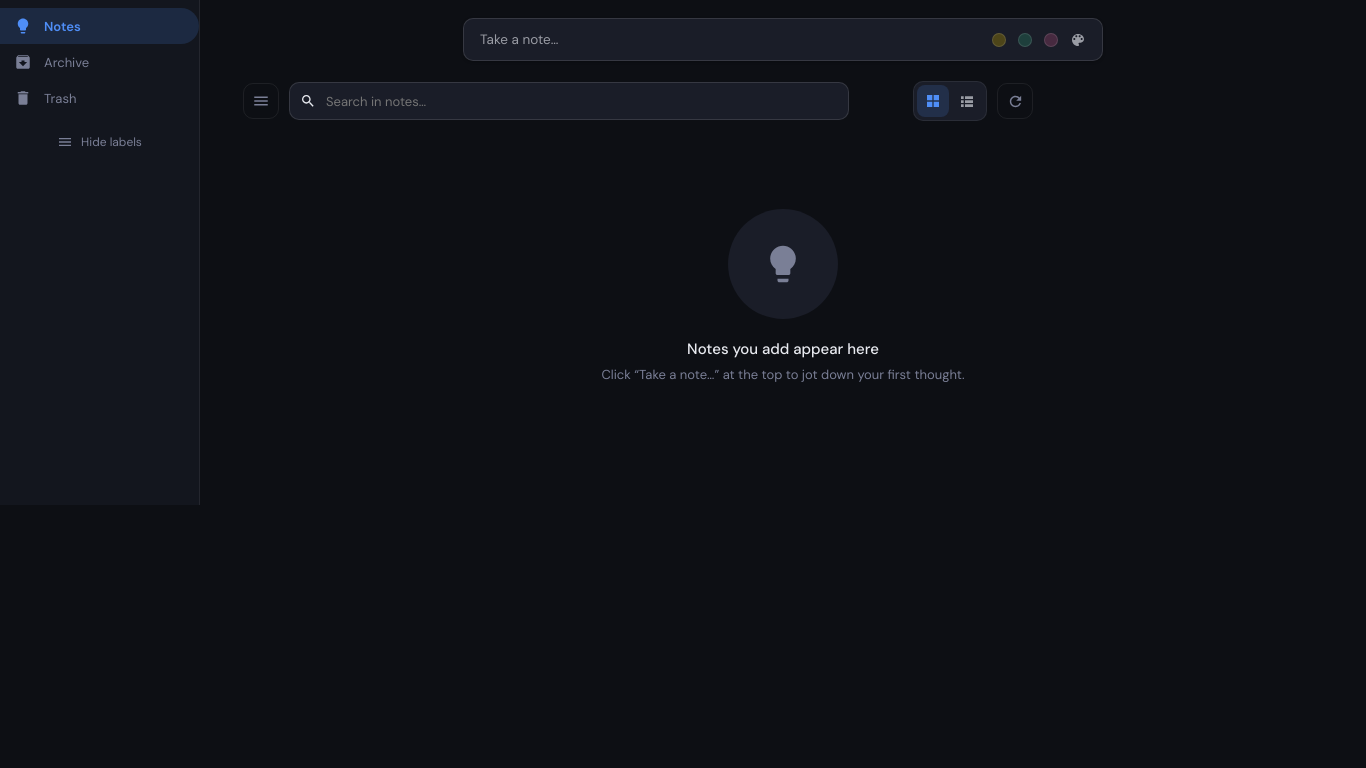
it: creates a note through the editor: close flushes a single POST
This screenshot has width=1366, height=768.
Expected: the message is shown, [602,209,965,383]
Click the button "Take a note…": (519, 40) [463,18,1103,61]
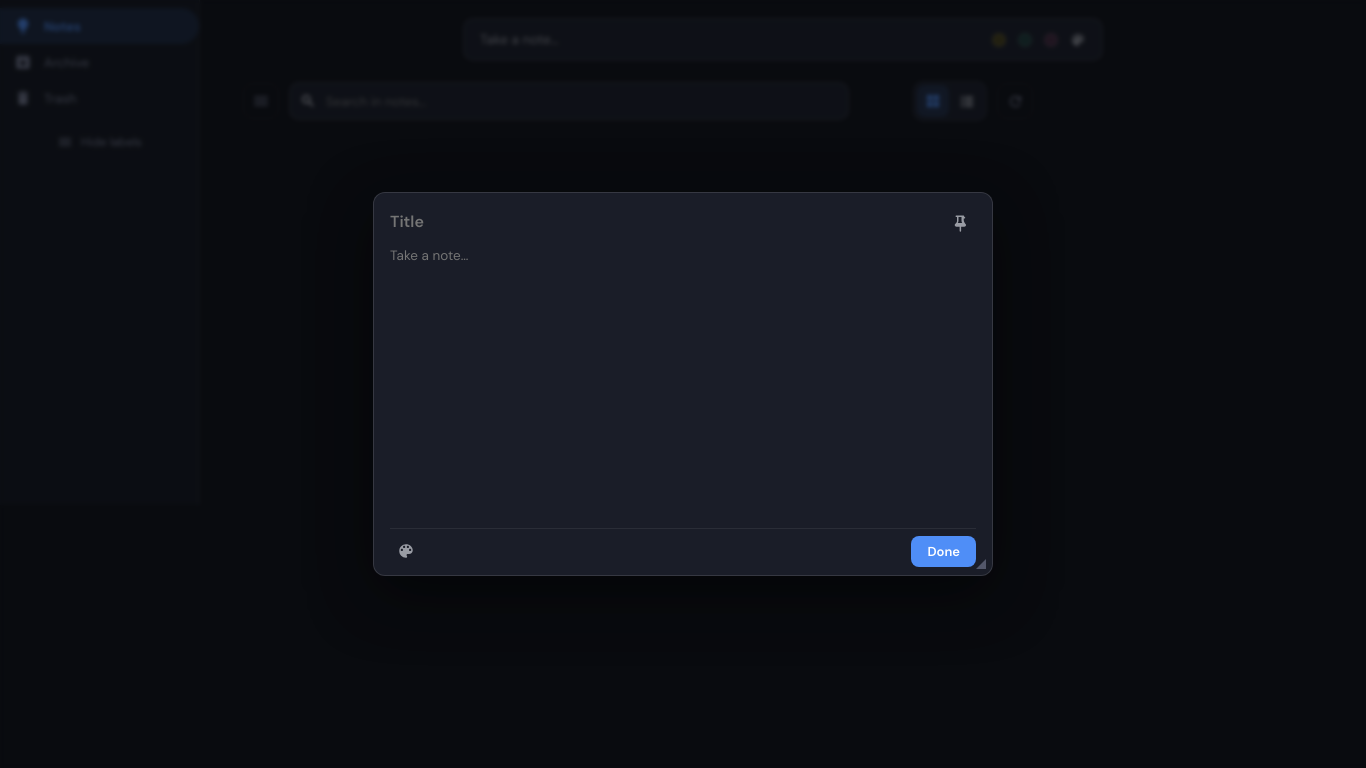
Expected: the dialog named "new note" is shown, [373,192,993,576]
In the field named "Note title": (663, 222) [390,207,936,236], type "Ideas"
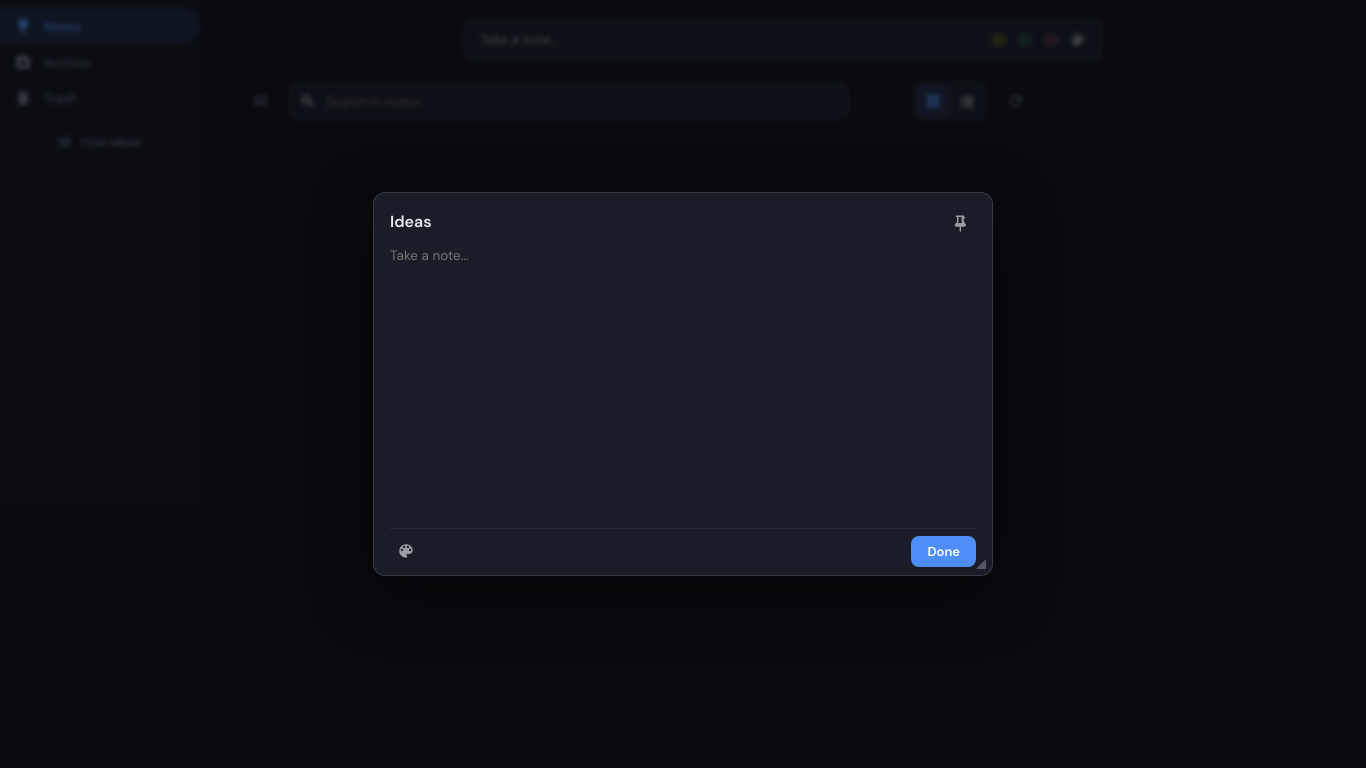
In the text box named "Note body": (683, 384) [390,239,976,528], type "Build a treehouse"
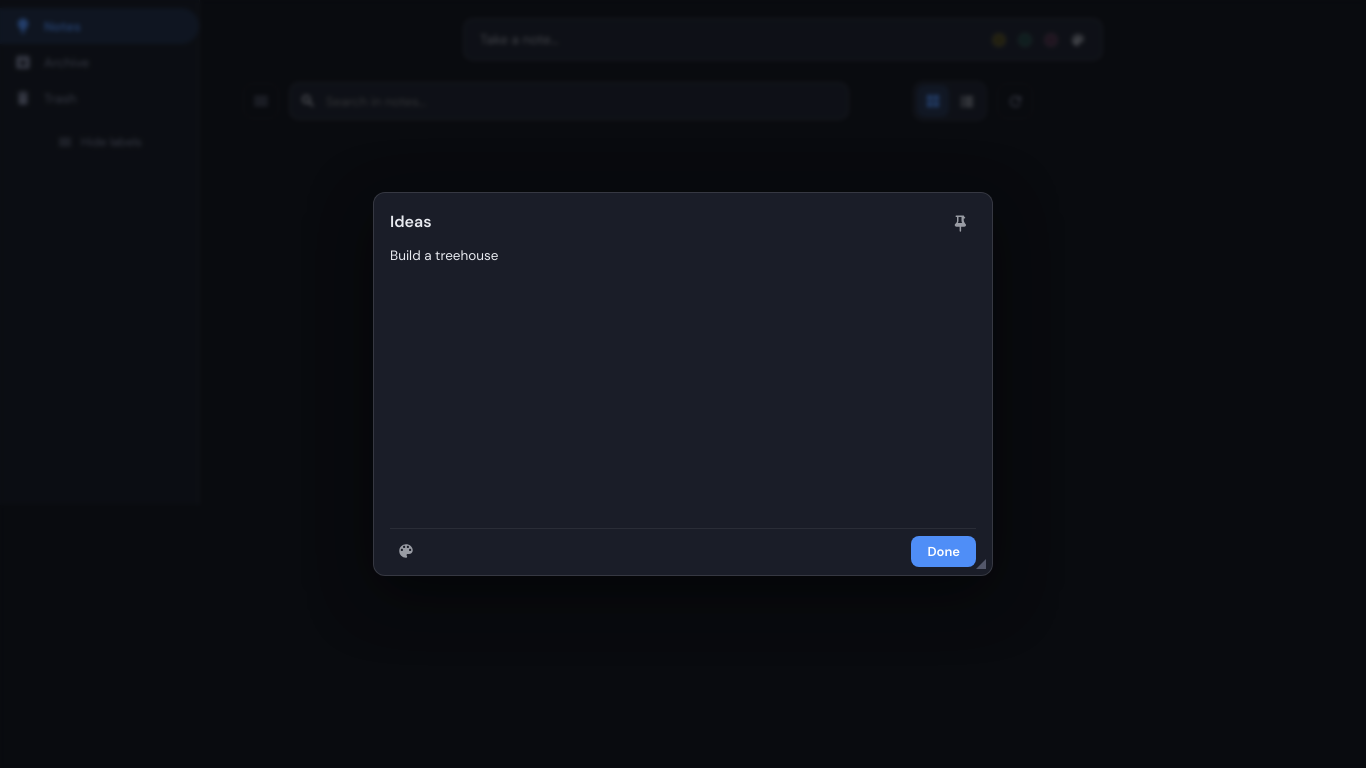
Click the button "Done": (944, 551) [912,536,976,566]
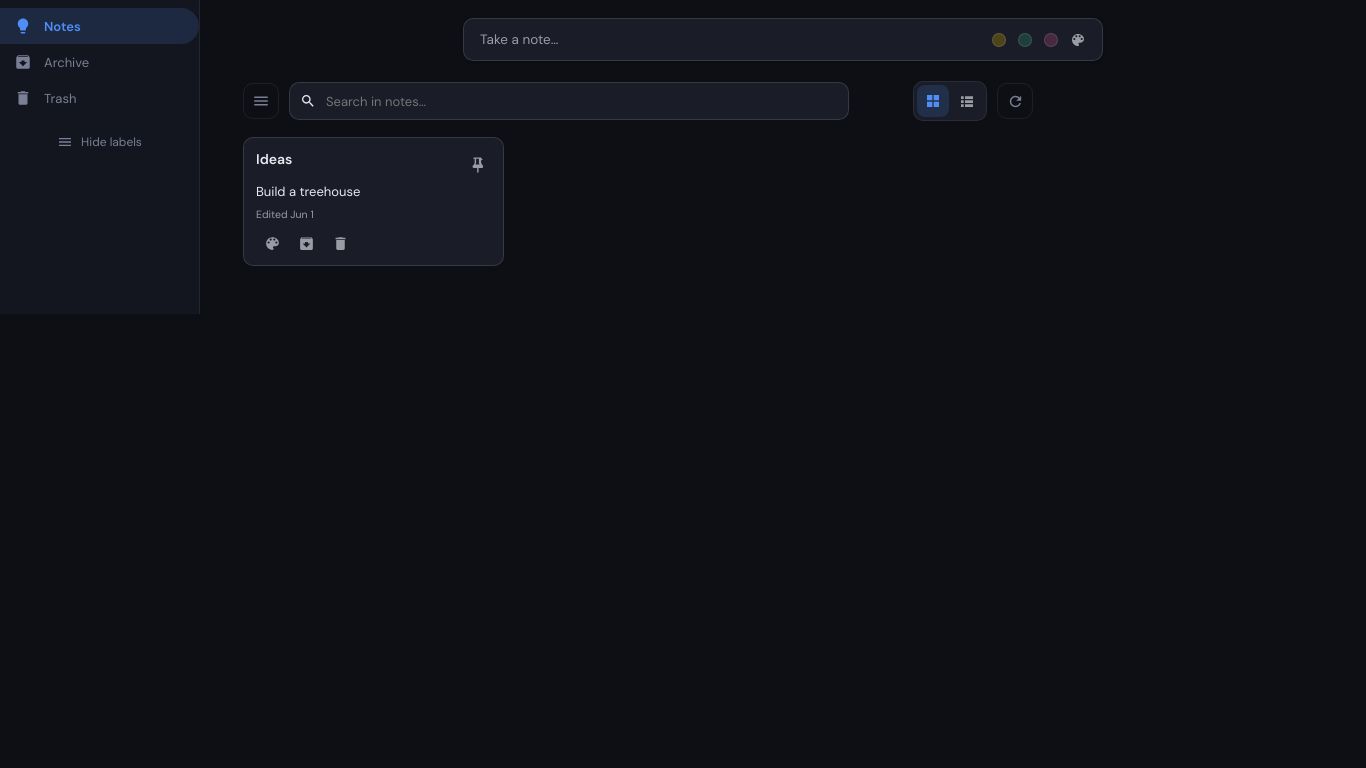
Expected: the text "Build a treehouse" is shown, [256,183,360,200]
